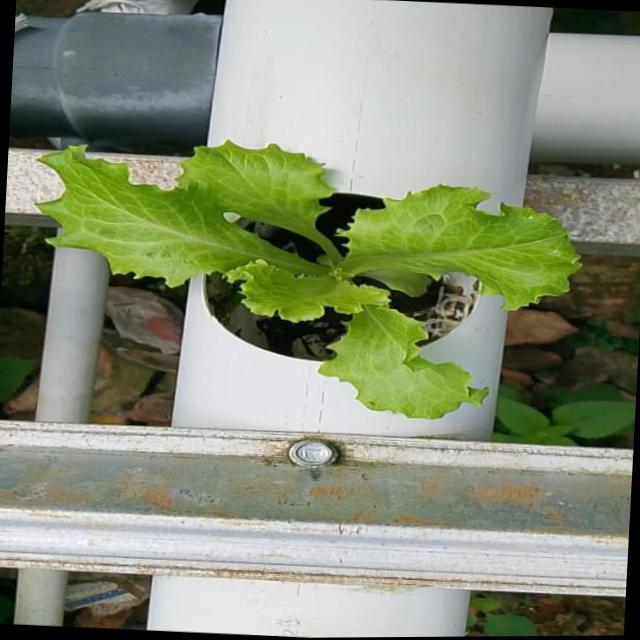Baby: (40, 144, 582, 420)
